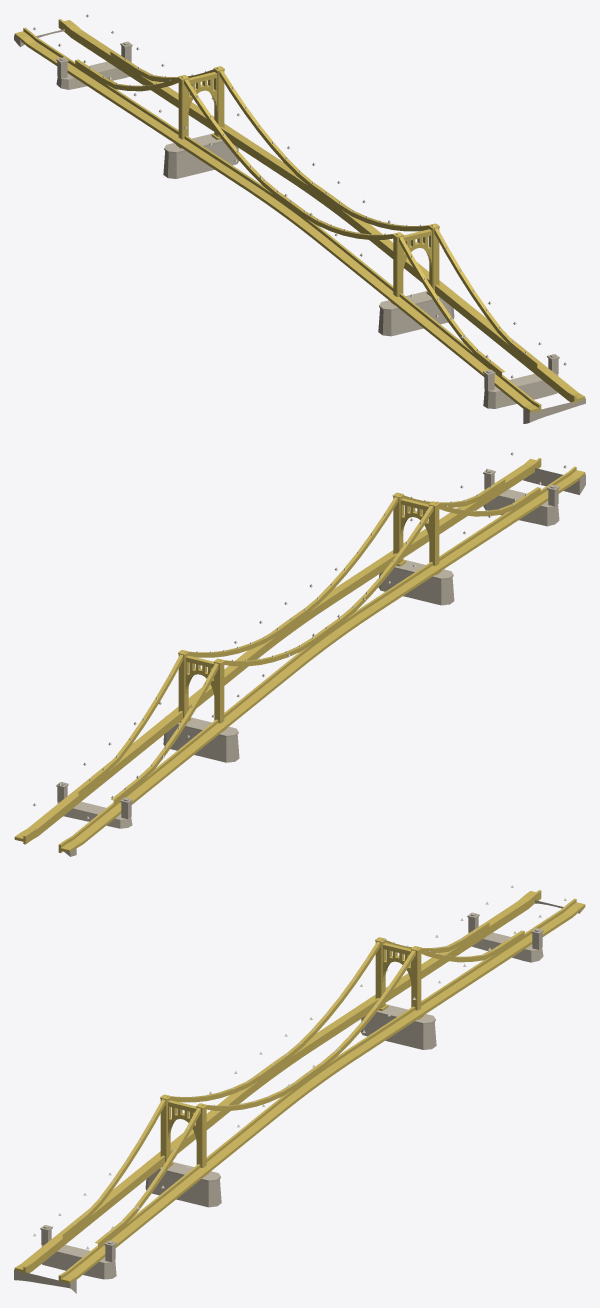
File: pit-andy-warhol-bridge.glb
3 views of the same model, one above another, from view 1: azimuth 30°, elevation 25°; view 2: azimuth 150°, elevation 25°; view 3: azimuth 330°, elevation 25° (orthographic).
Parts seen in each view (by area): view 1: Andy Warhol Bridge; view 2: Andy Warhol Bridge; view 3: Andy Warhol Bridge.
Part boxes in pixels (<box>): Andy Warhol Bridge: <box>14,14,585,423</box>; Andy Warhol Bridge: <box>14,452,585,856</box>; Andy Warhol Bridge: <box>14,885,585,1293</box>.
Size of the model in its own units: 26.1 by 33.25 by 324.
